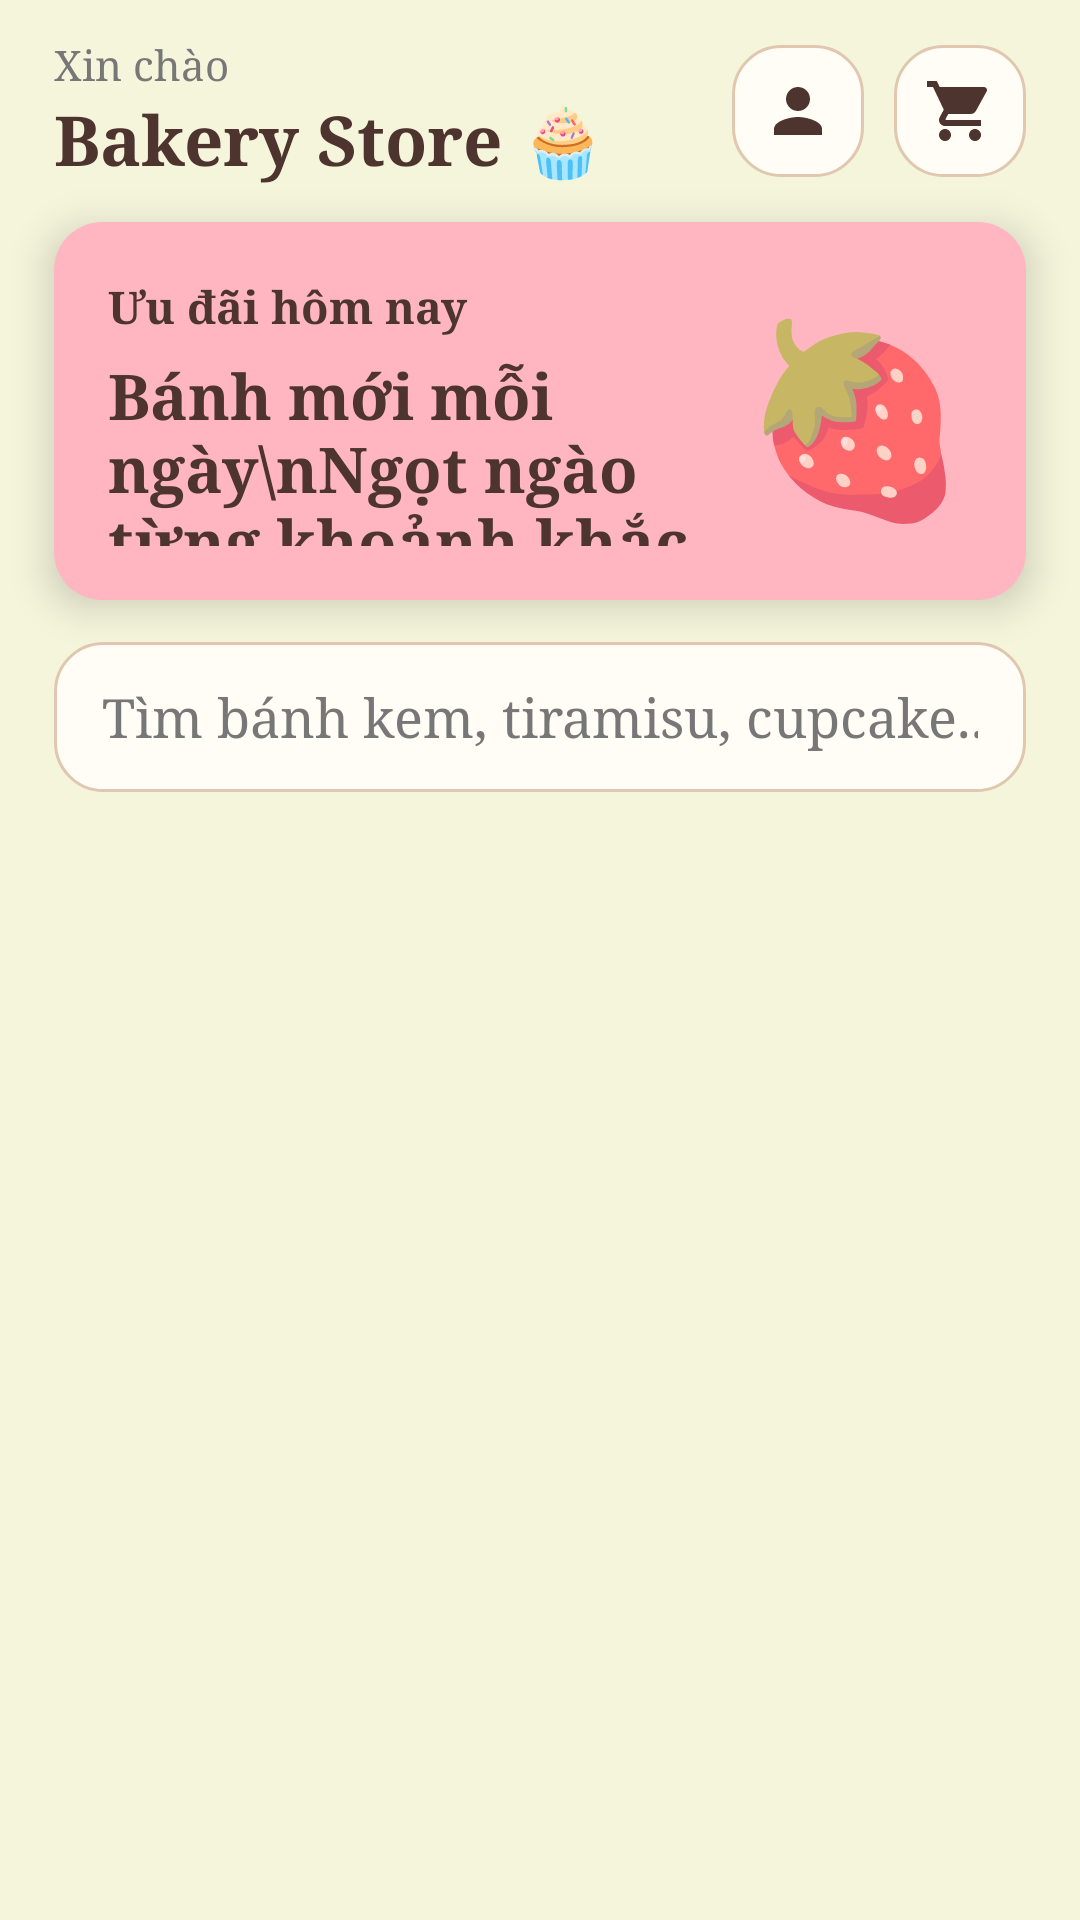

Screen size 1080 × 1920. Icon name, then its center in pixels as [x,y]:
Giỏ hàng: [960,111]
Hồ sơ: [798,111]
